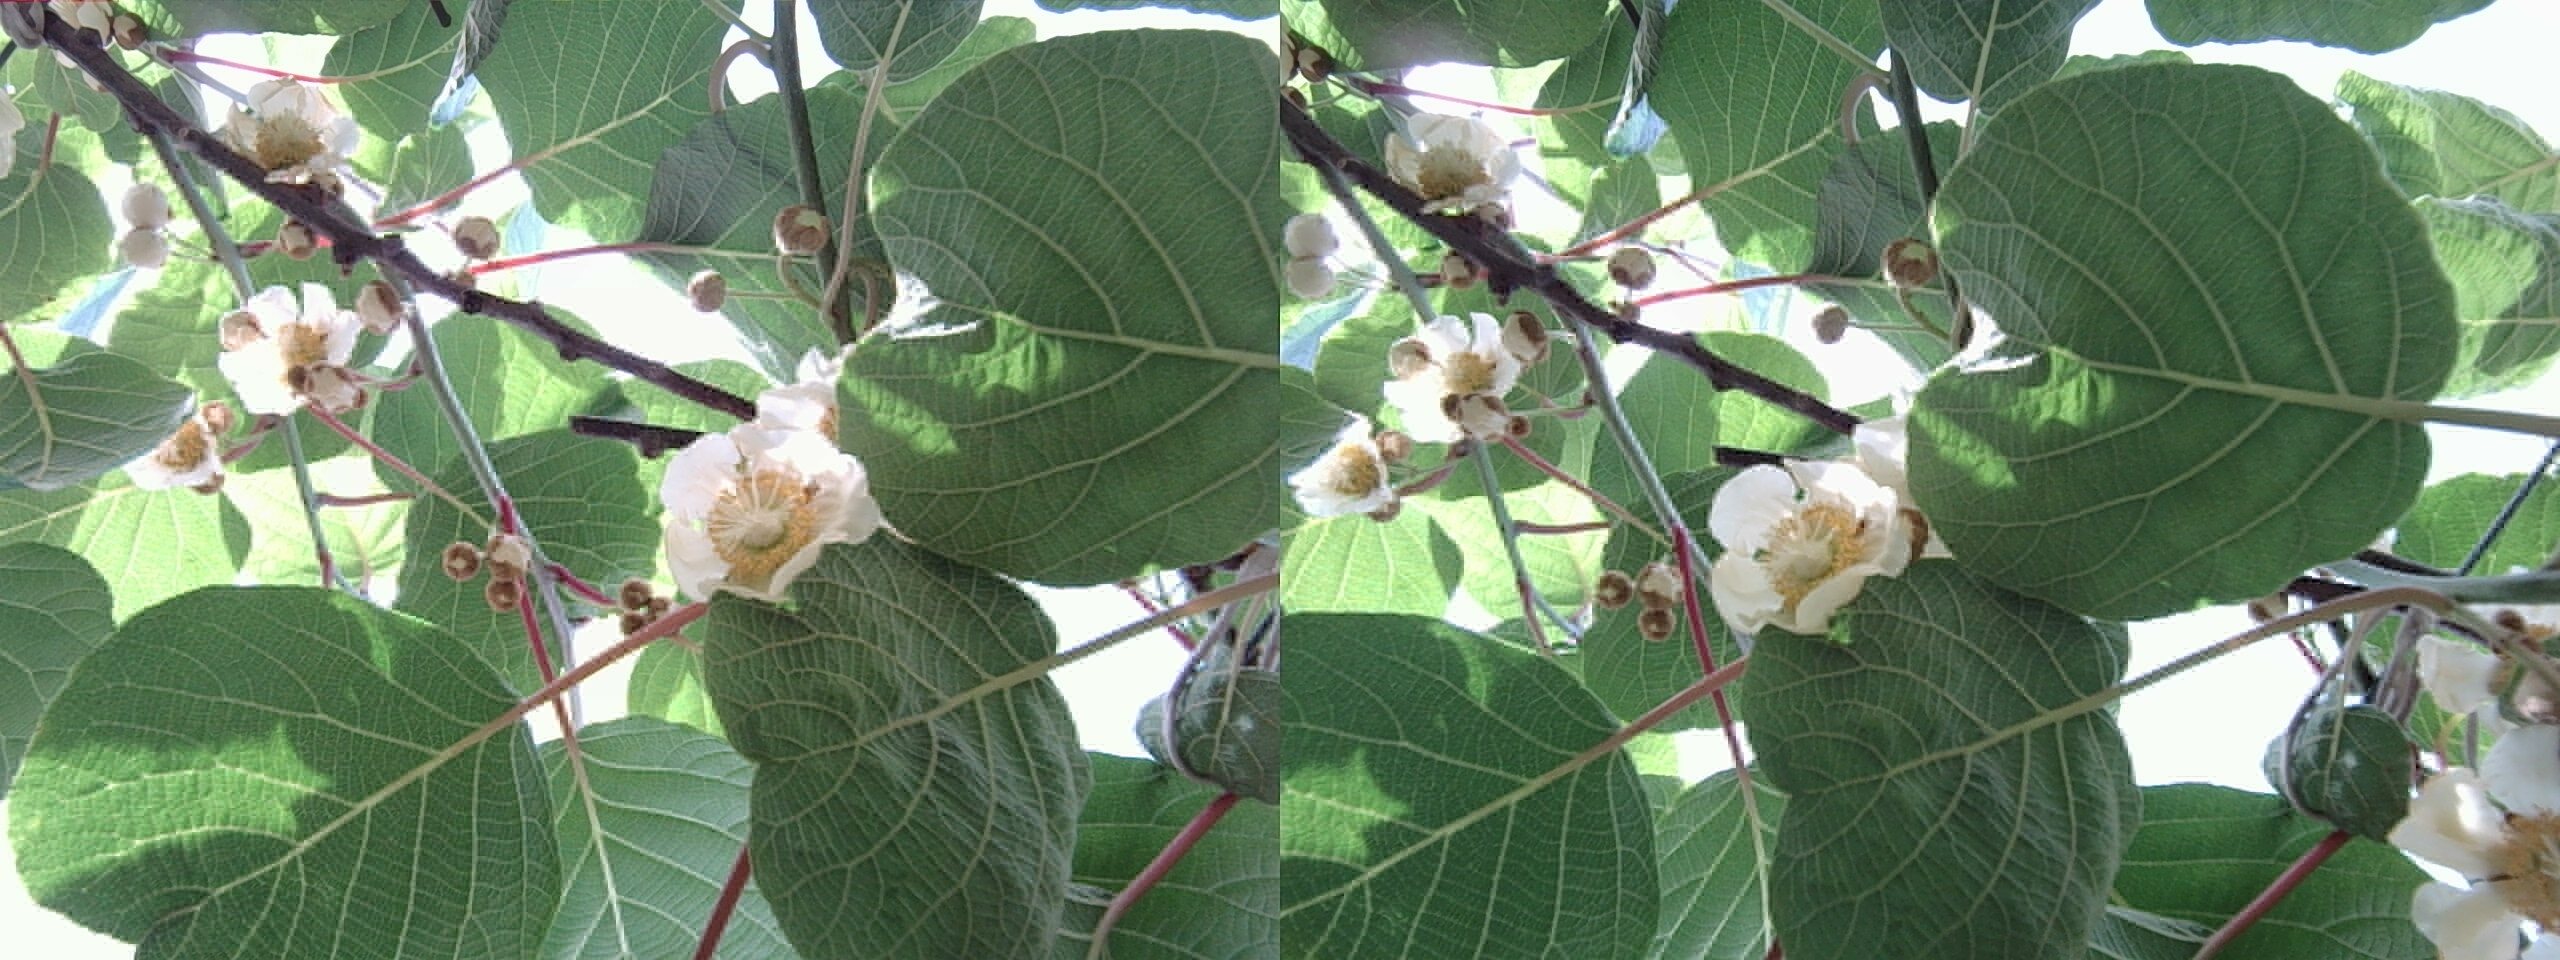flower: (655, 410, 872, 601), (1701, 457, 1918, 635), (212, 278, 397, 413), (1384, 309, 1546, 447)
